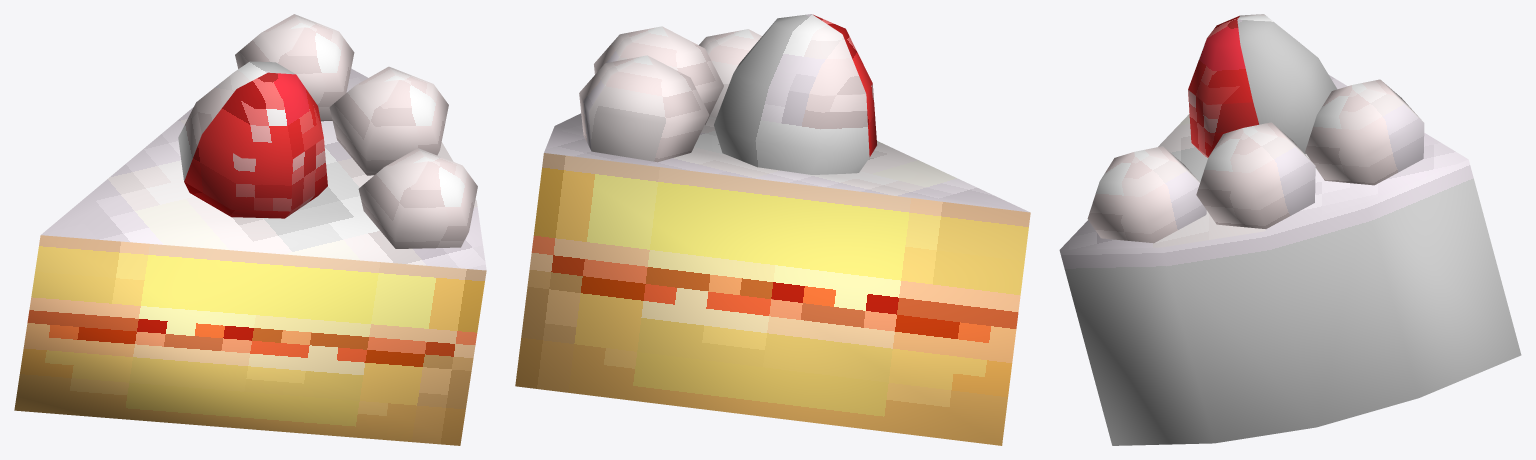
File: fg_cake.dae
3 views of the same model, side by side, from view 1: azimuth 30°, elevation 25°; view 2: azimuth 150°, elevation 25°; view 3: azimuth 270°, elevation 25° (orthographic). The views are drawn at different scales.
Visible parts, largest first — view 1: _0_0; view 2: _0_0; view 3: _0_0.
Part boxes in pixels (x1=…): _0_0: x1=14, y1=14, x2=486, y2=445; _0_0: x1=515, y1=14, x2=1030, y2=445; _0_0: x1=1059, y1=14, x2=1521, y2=445.
Bounding box in the file's own units: 12.97 × 11.02 × 12.75.
1 material, 1 textured.
